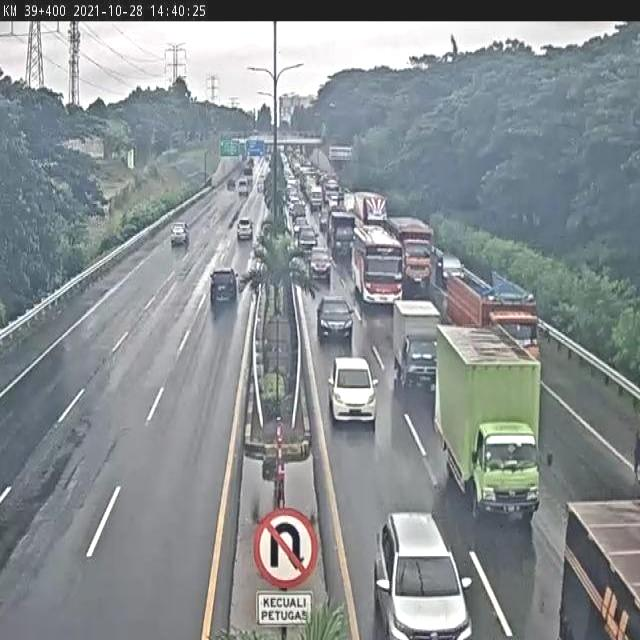Bus: (351, 224, 403, 309)
Car: (373, 512, 473, 638), (328, 356, 378, 426), (316, 296, 354, 343), (209, 267, 238, 313), (309, 246, 332, 281), (298, 226, 318, 254), (170, 222, 190, 245), (236, 218, 253, 240), (236, 178, 248, 196)
Truck: (432, 324, 540, 519), (442, 267, 536, 362), (390, 297, 440, 393), (388, 217, 436, 298), (328, 209, 360, 259)
